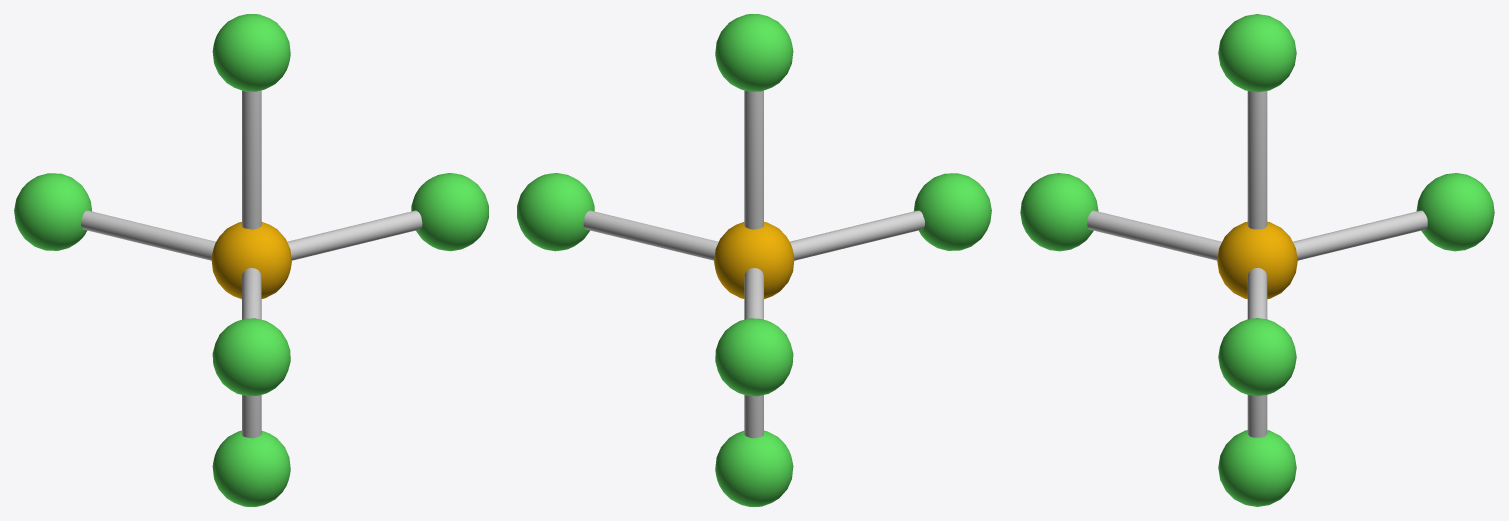
The model's file is PCL5.fbx.
3 renders of one model, left to right at view 1: azimuth 30°, elevation 25°; view 2: azimuth 150°, elevation 25°; view 3: azimuth 270°, elevation 25°, orthographic.
Parts seen in each view (by area): view 1: Atom_3_CL, Atom_1_CL, Atom_5_CL, Atom_4_CL, Atom_2_CL, Atom_0_P, Bond, Bond_003, Bond_001, Bond_002, Bond_004; view 2: Atom_4_CL, Atom_1_CL, Atom_5_CL, Atom_3_CL, Atom_2_CL, Atom_0_P, Bond, Bond_002, Bond_001, Bond_003, Bond_004; view 3: Atom_2_CL, Atom_1_CL, Atom_5_CL, Atom_4_CL, Atom_3_CL, Atom_0_P, Bond, Bond_003, Bond_002, Bond_001, Bond_004.
Boxes of the visible parts, x1,y1,x2,y2 form: Atom_3_CL: (212, 318, 290, 396); Atom_1_CL: (212, 14, 290, 91); Atom_5_CL: (212, 430, 290, 506); Atom_4_CL: (14, 173, 91, 250); Atom_2_CL: (411, 173, 488, 251); Atom_0_P: (211, 222, 291, 299); Bond: (242, 90, 261, 229); Bond_003: (81, 210, 215, 260); Bond_001: (287, 210, 422, 260); Bond_002: (242, 268, 261, 319); Bond_004: (242, 395, 261, 438); Atom_4_CL: (715, 318, 793, 396); Atom_1_CL: (715, 14, 793, 91); Atom_5_CL: (715, 430, 793, 506); Atom_3_CL: (914, 173, 991, 250); Atom_2_CL: (517, 173, 594, 251); Atom_0_P: (714, 222, 794, 299); Bond: (744, 90, 763, 229); Bond_002: (790, 210, 924, 260); Bond_001: (583, 210, 718, 260); Bond_003: (744, 268, 763, 319); Bond_004: (744, 395, 763, 438); Atom_2_CL: (1218, 318, 1296, 396); Atom_1_CL: (1218, 14, 1296, 92); Atom_5_CL: (1218, 430, 1296, 506); Atom_4_CL: (1416, 173, 1494, 251); Atom_3_CL: (1020, 173, 1098, 251); Atom_0_P: (1217, 221, 1297, 299); Bond: (1247, 91, 1267, 229); Bond_003: (1293, 210, 1427, 260); Bond_002: (1087, 210, 1221, 260); Bond_001: (1247, 268, 1267, 319); Bond_004: (1247, 395, 1267, 437).
Size of the model in its own units: 3.76 by 4.78 by 4.23.
